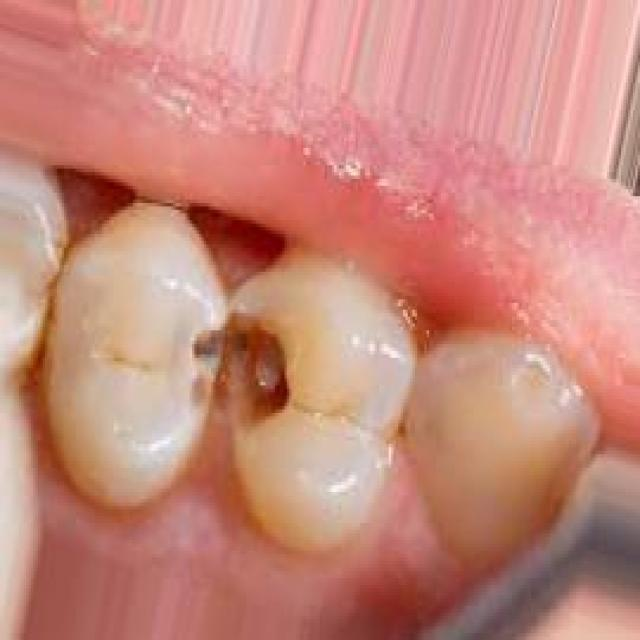caries: (176, 278, 304, 447)
